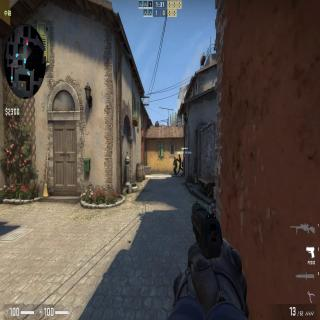T-Body: (177, 155, 183, 176), (173, 157, 178, 175)
T-Head: (178, 155, 180, 158), (174, 157, 176, 160)
